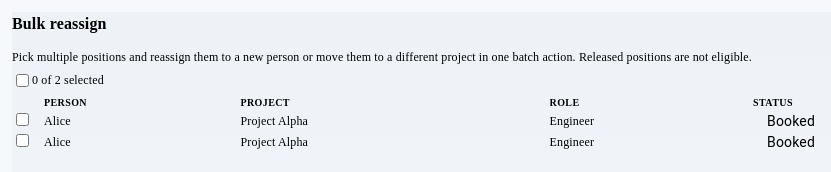
Test: BulkReassignPanel (LEAN-P4-missing-1) › toggle-all checkbox selects every eligible row
The width and height of the screenshot is (831, 172).
What coordinates should you click on to do the following:
click the checkbox with test id "bulk-reassign-select-all"
I would click on:
 (22, 80)
Its box is [16,74,29,86].
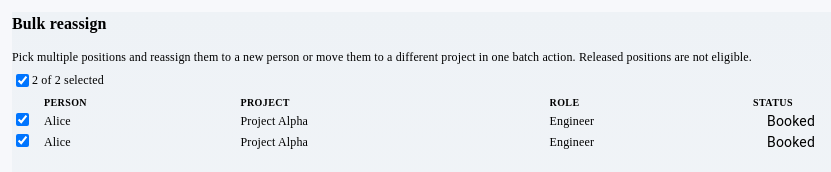
Result: the text "2 of 2 selected" is shown at [32,71,104,89]
